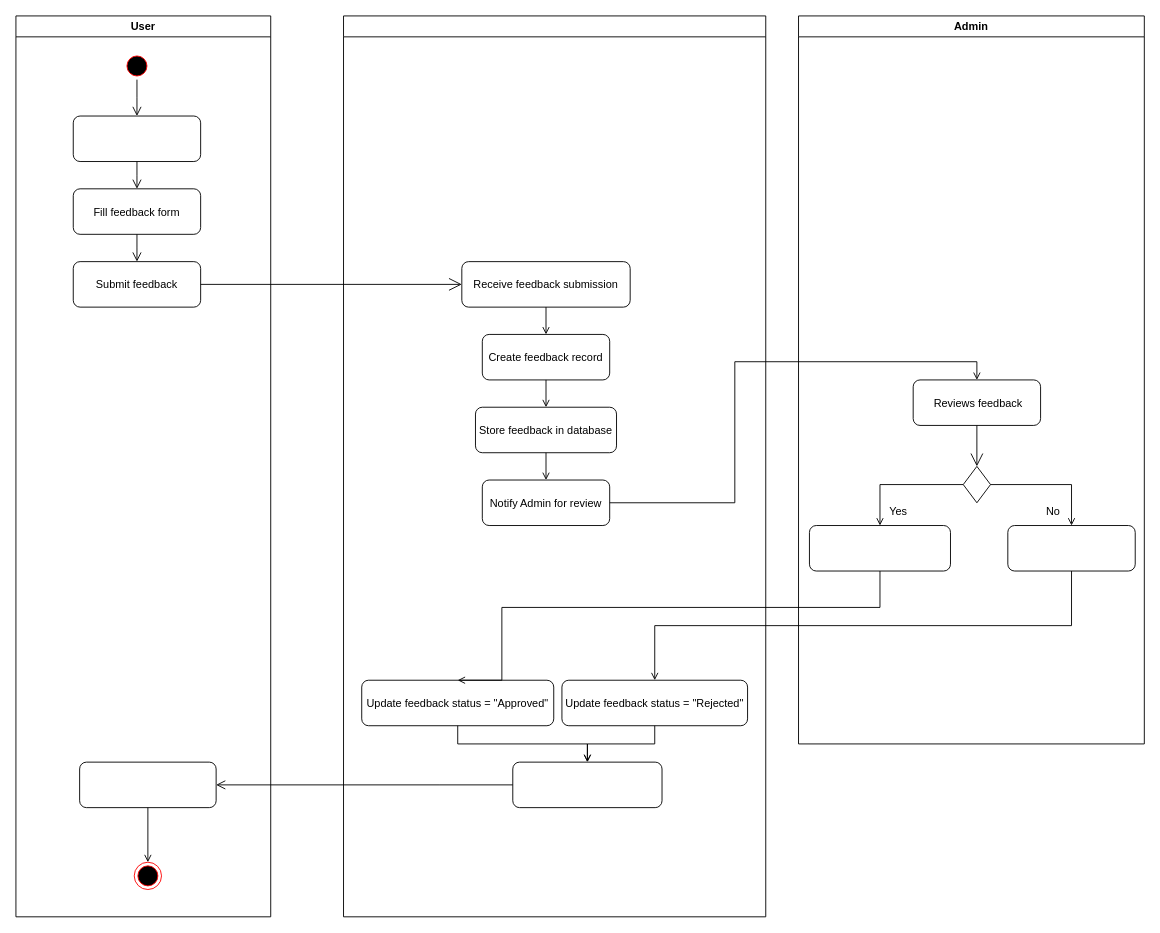
Image size: 1160x933. Some labels were removed from this diagram. Each missing label, with the box of its shape:
Approve feedback: (809, 525, 950, 571)
Open feedback page: (72, 115, 201, 162)
Receive result notification: (79, 761, 216, 808)
Reject feedback: (1007, 525, 1135, 571)
Send notification to student: (512, 761, 662, 808)
System: (343, 15, 766, 917)
